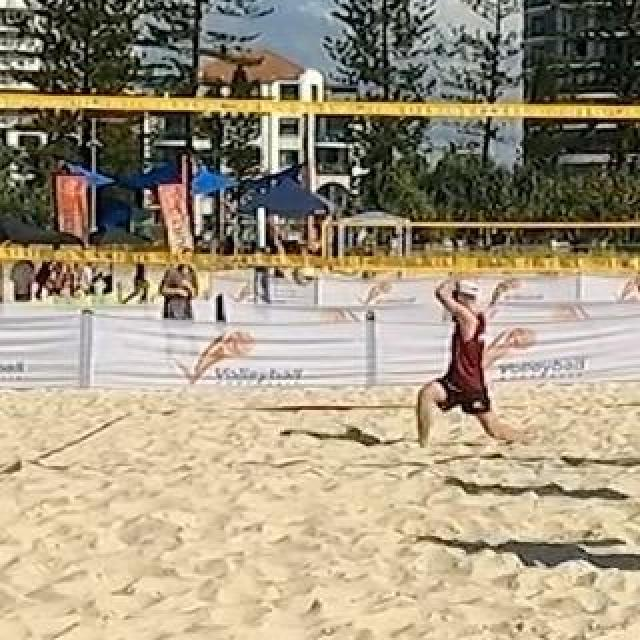volleyball: (291, 262, 315, 286)
